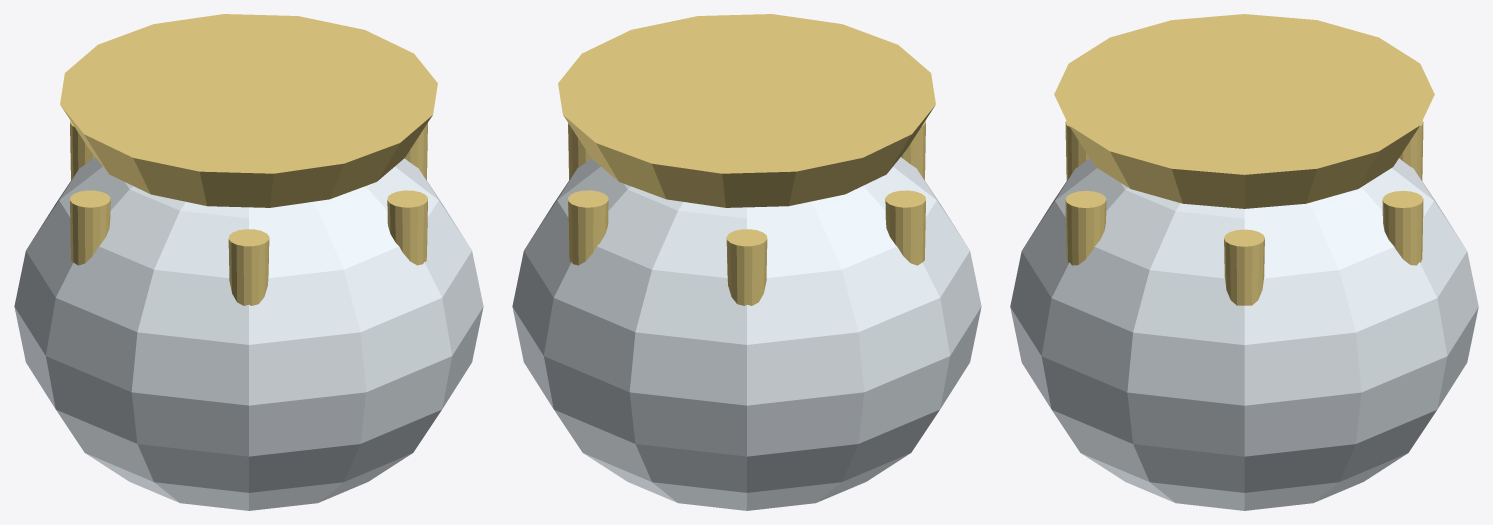
Rendered from diamond-stud.glb.
The picture shows the model from 3 angles, left to right: view 1: azimuth 30°, elevation 25°; view 2: azimuth 150°, elevation 25°; view 3: azimuth 270°, elevation 25°; orthographic projection.
Visible parts, largest first — view 1: Diamond, Gold; view 2: Diamond, Gold; view 3: Diamond, Gold.
Part boxes in pixels (left/top/right/bottom): Diamond: left=14, top=157, right=483, bottom=510; Gold: left=60, top=14, right=437, bottom=305; Diamond: left=512, top=157, right=981, bottom=510; Gold: left=558, top=14, right=935, bottom=305; Diamond: left=1010, top=158, right=1478, bottom=510; Gold: left=1054, top=14, right=1434, bottom=305.
Bounding box in the file's own units: 6.4 × 5.92 × 6.4.
